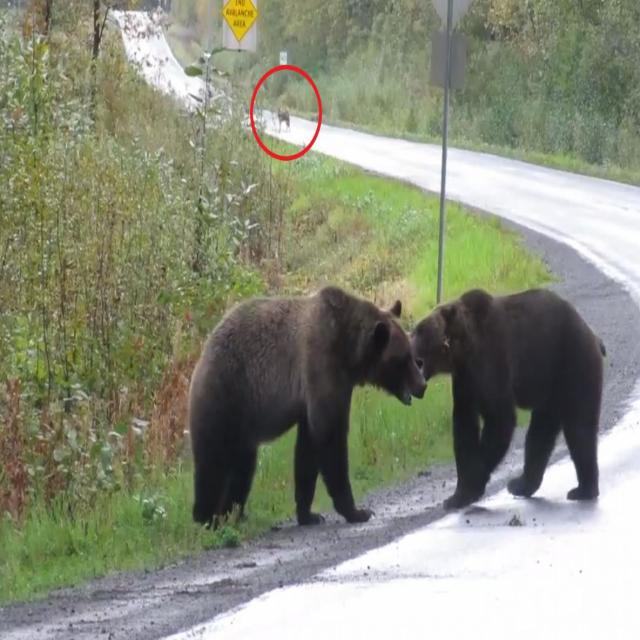Bear: (188, 287, 427, 529), (410, 289, 607, 513), (279, 112, 290, 126)
